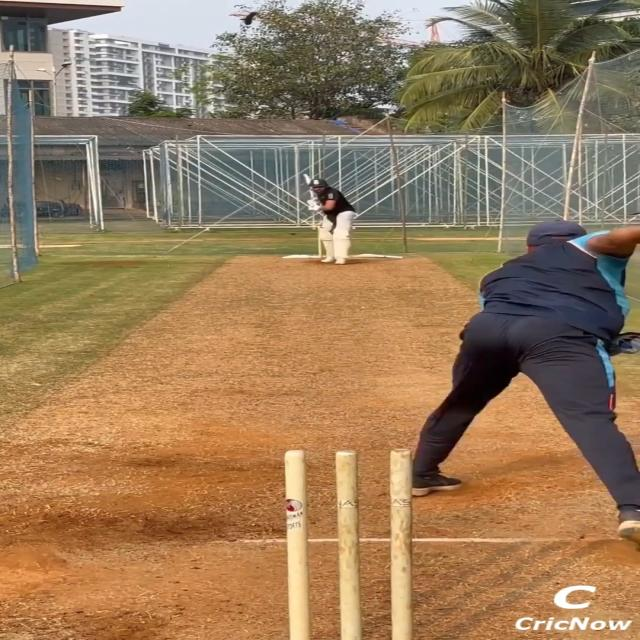stump: (280, 447, 415, 640)
